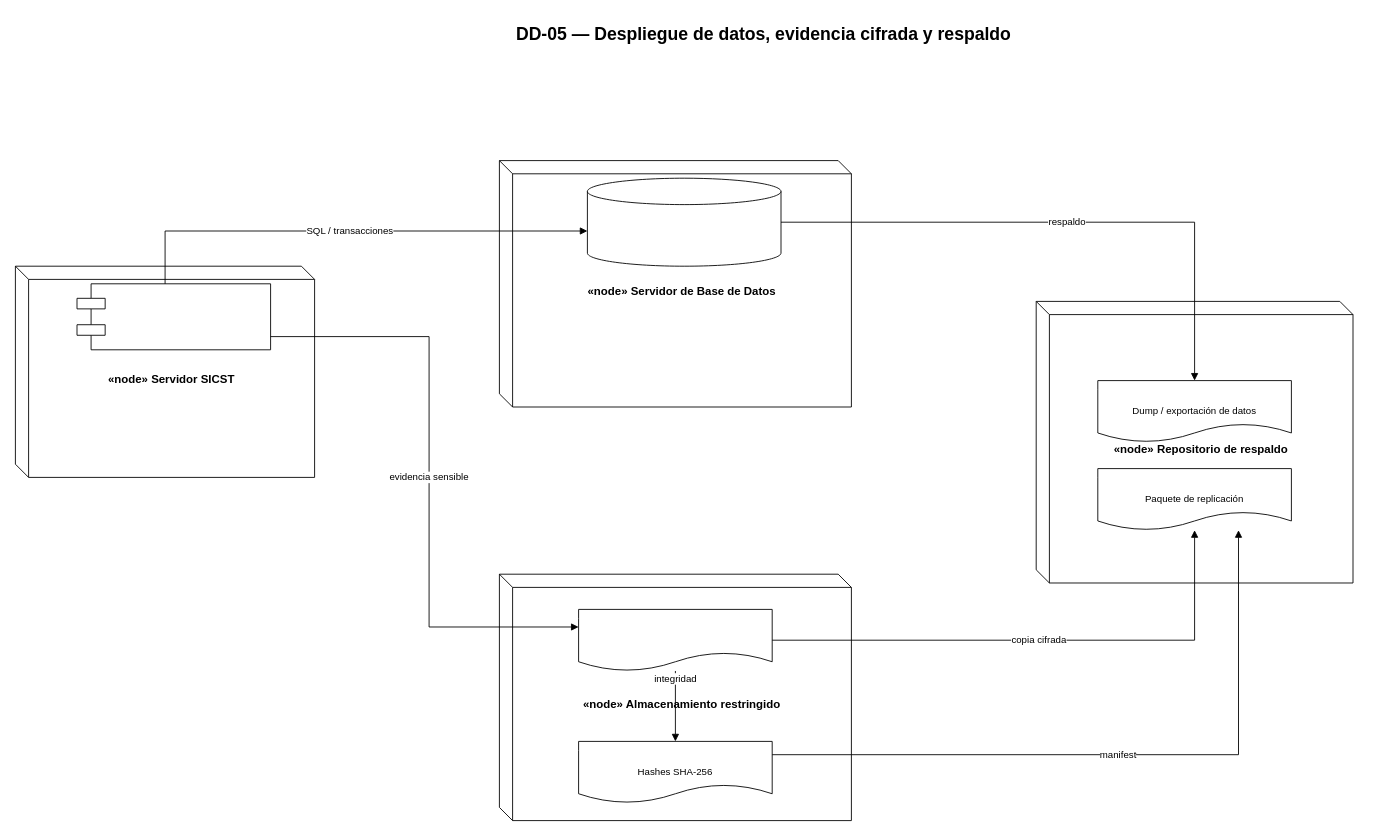
Image size: 1395x836. Some labels were removed from this diagram. The shapes that lost their labels are listed below. From the top down, each one's centre as x and y in pixels, then its label:
point 684,221: BD relacional SICST
point 173,316: API / Servicios
point 675,640: Evidencias cifradas .7z
